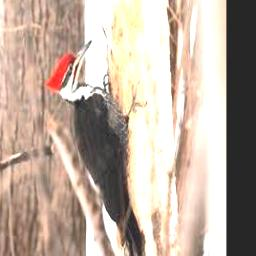Woodpecker: (45, 39, 145, 256)
